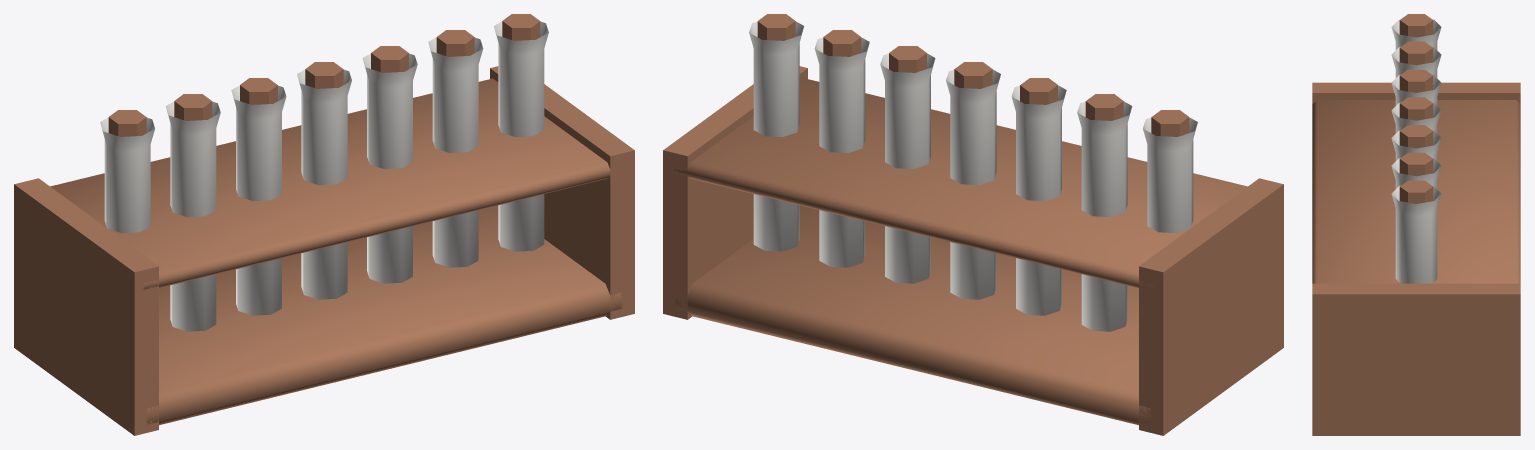
File: vial_rack.glb
3 views of the same model, side by side, from view 1: azimuth 30°, elevation 25°; view 2: azimuth 150°, elevation 25°; view 3: azimuth 270°, elevation 25° (orthographic). The views are drawn at different scales.
Parts seen in each view (by area): view 1: vial_rack; view 2: vial_rack; view 3: vial_rack.
Part boxes in pixels (bbox=[...]): vial_rack: bbox=[14, 14, 634, 435]; vial_rack: bbox=[663, 14, 1283, 435]; vial_rack: bbox=[1312, 14, 1520, 435].
Size of what is drawn, in the model's own units: 0.6 by 0.3 by 0.25.
